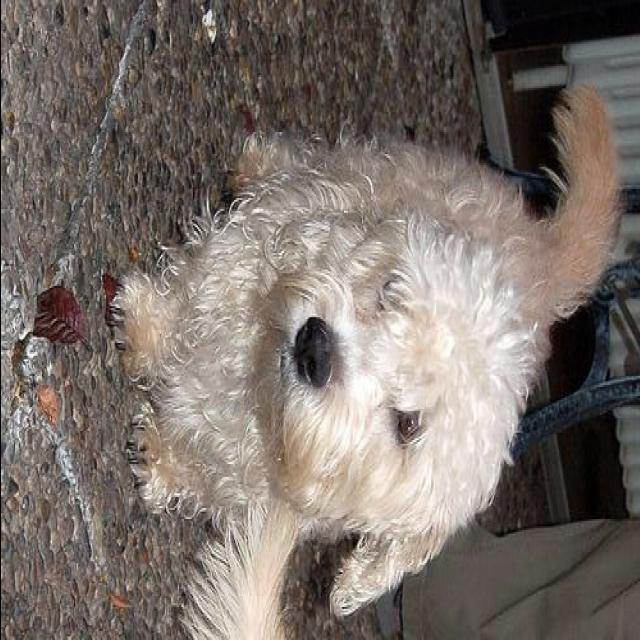dandie_dinmont: (109, 75, 619, 626)
